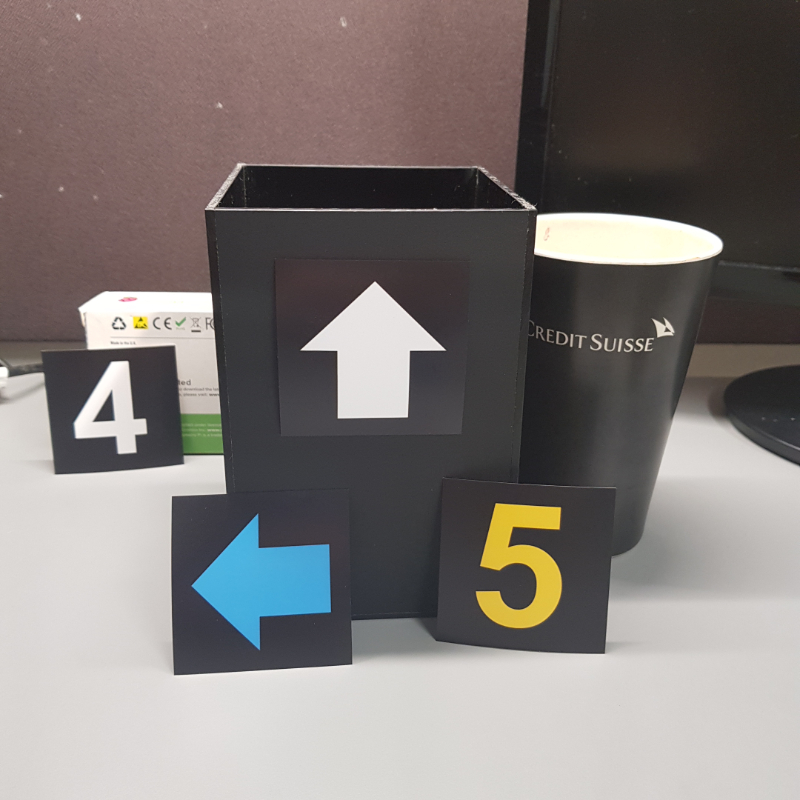Five-10: (452, 493, 602, 637)
Four-9: (61, 357, 171, 463)
LA-4: (178, 505, 343, 661)
UA-1: (288, 266, 457, 428)
